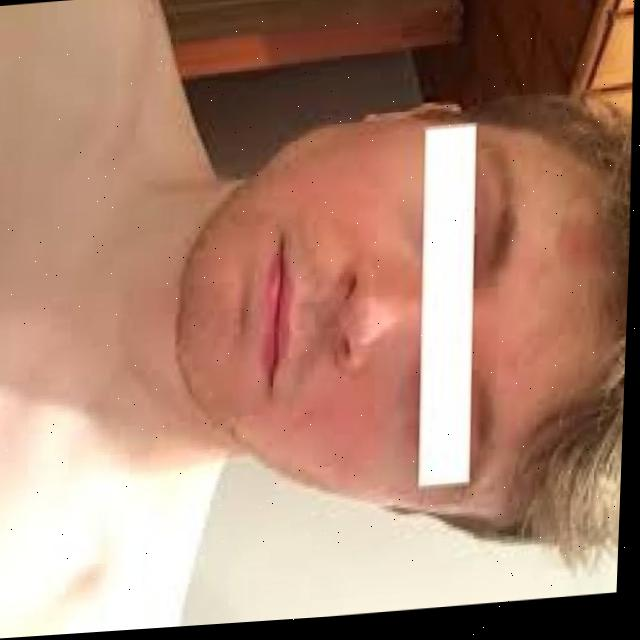Rosacea: (504, 323, 557, 390), (553, 208, 598, 283), (285, 401, 309, 427)
